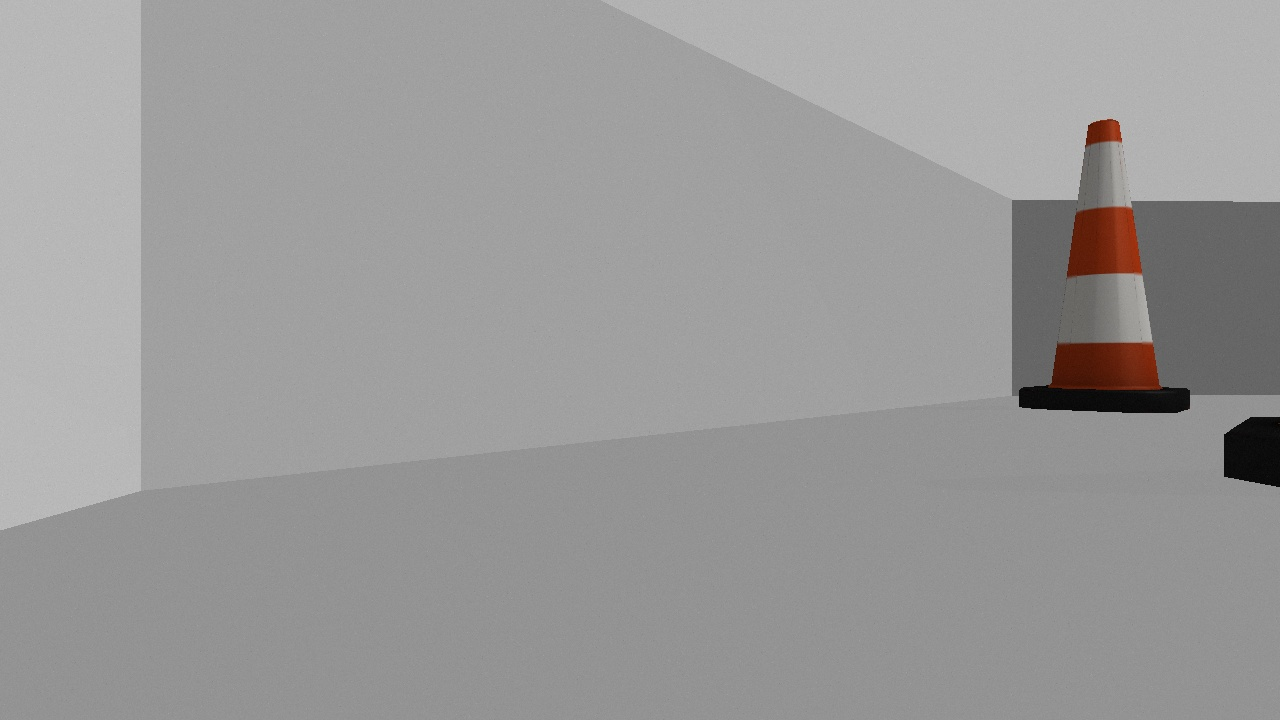barricade: (1010, 95, 1210, 432)
